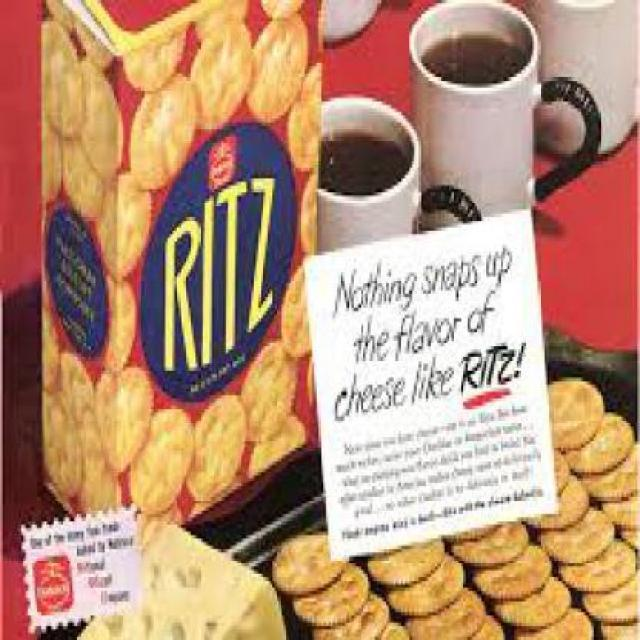Ritz cracker: (37, 4, 328, 518)
